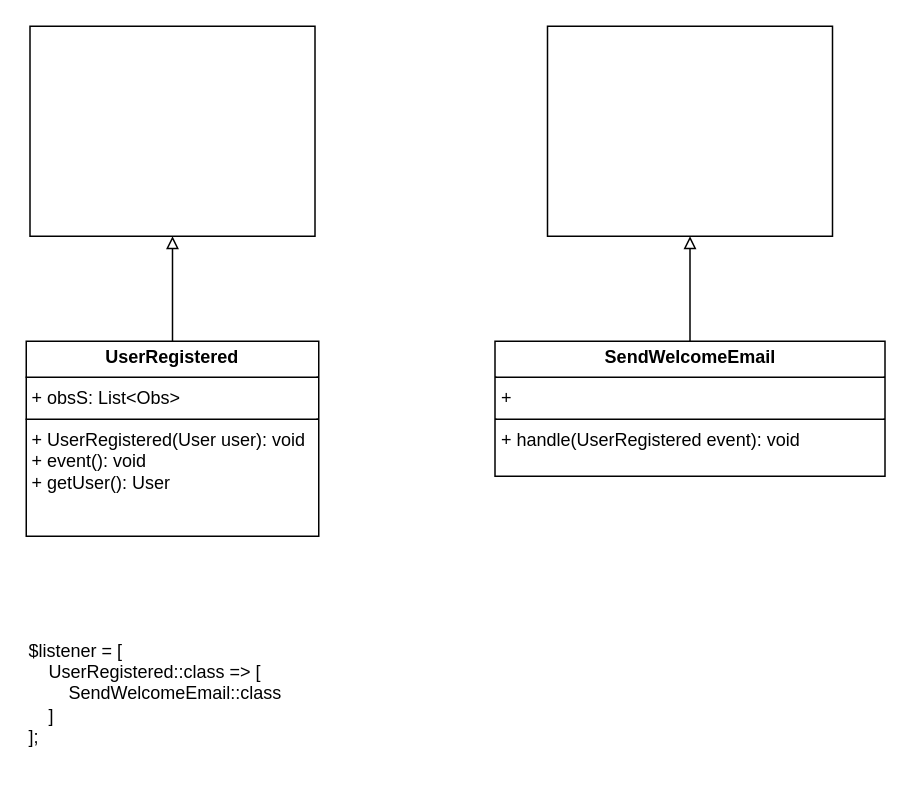
This 912x788 diagram has some shape labels left out. Here are the shapes that lost their labels. From the top down, the centre of each, then its label:
At point 171,130: "<<Interface>> Event + + event(): void".
At point 689,130: "<<Interface>> Obs + + handle(Event event): void".
